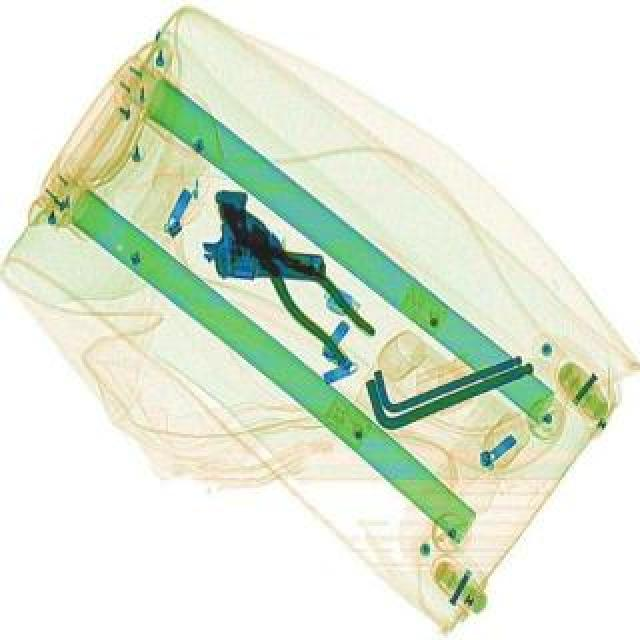gun: (200, 190, 332, 282)
wrench: (210, 196, 386, 368)
